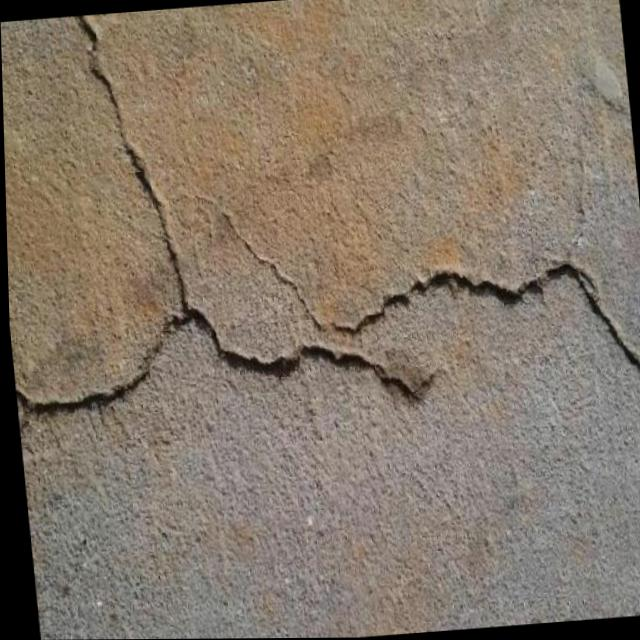Crack: (197, 161, 640, 448), (7, 278, 434, 442), (71, 9, 195, 327)
